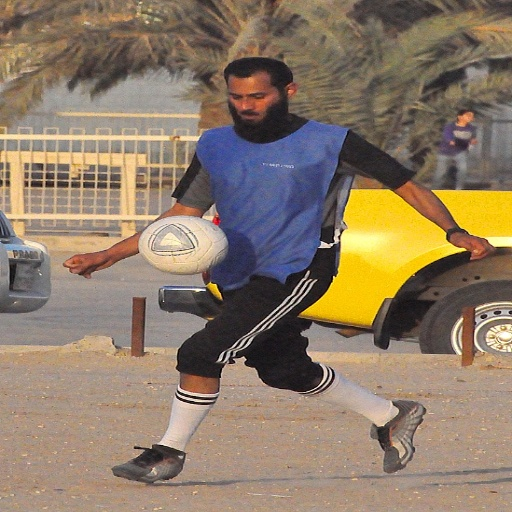hand: (52, 214, 167, 280), (445, 233, 496, 257), (63, 253, 112, 277)
